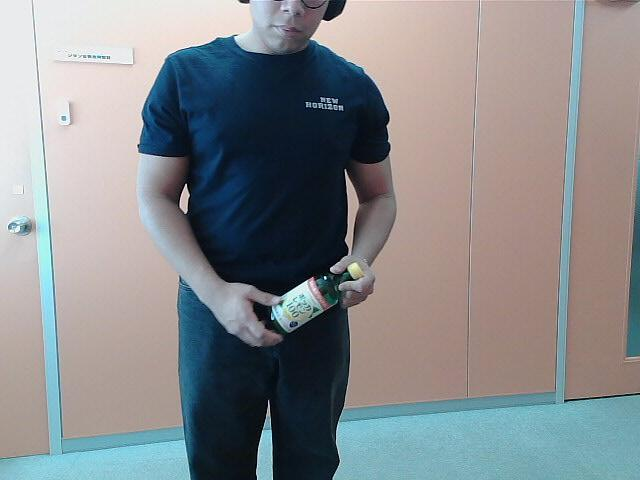Lemon_sapporo: (265, 262, 373, 334)
